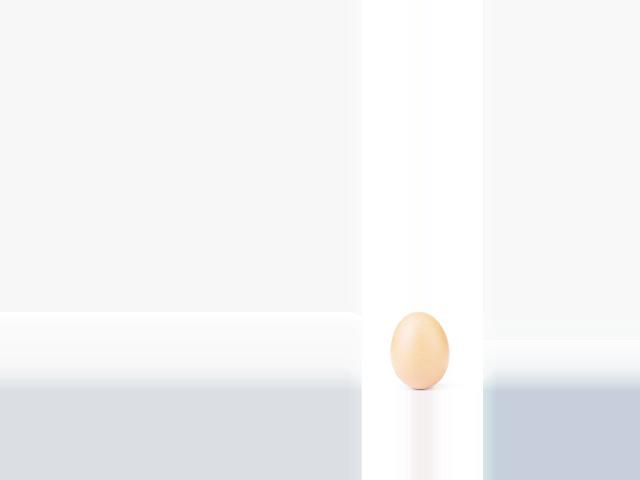egg: (390, 312, 449, 389)
